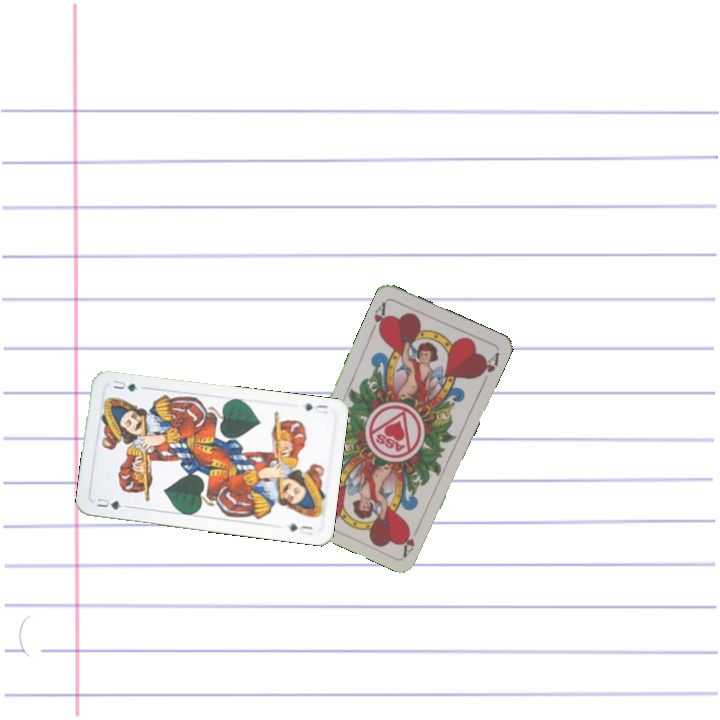GU: (93, 494, 131, 512), (301, 399, 331, 417)
HA: (366, 298, 390, 338), (399, 520, 423, 559)
